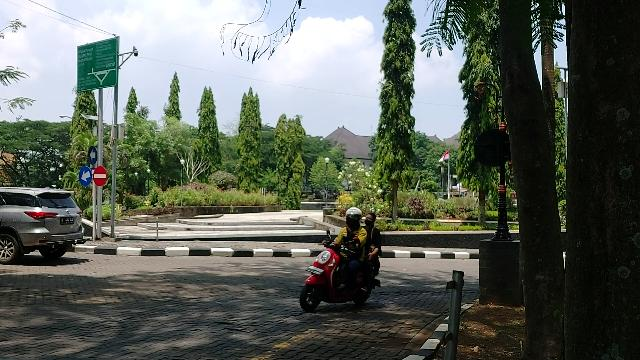helm: (347, 209, 363, 226)
motor: (302, 248, 376, 311)
non-helm: (366, 214, 377, 226)
